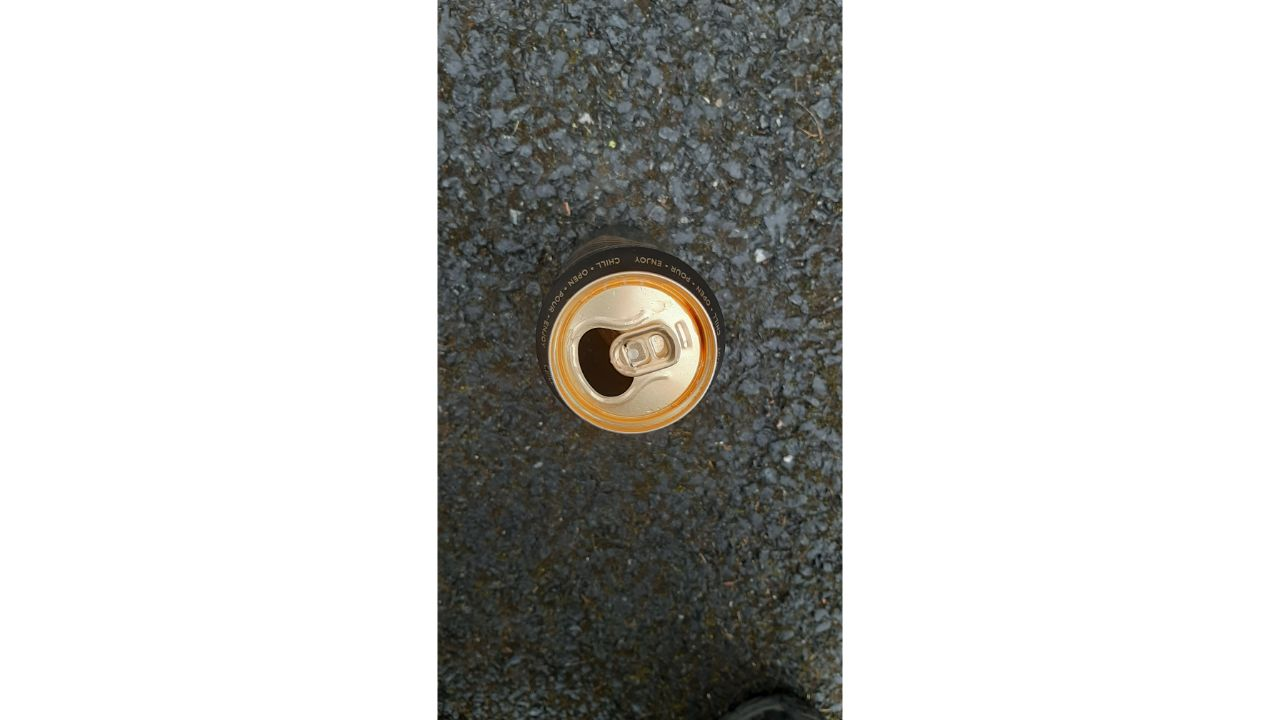Can: (517, 212, 741, 456)
